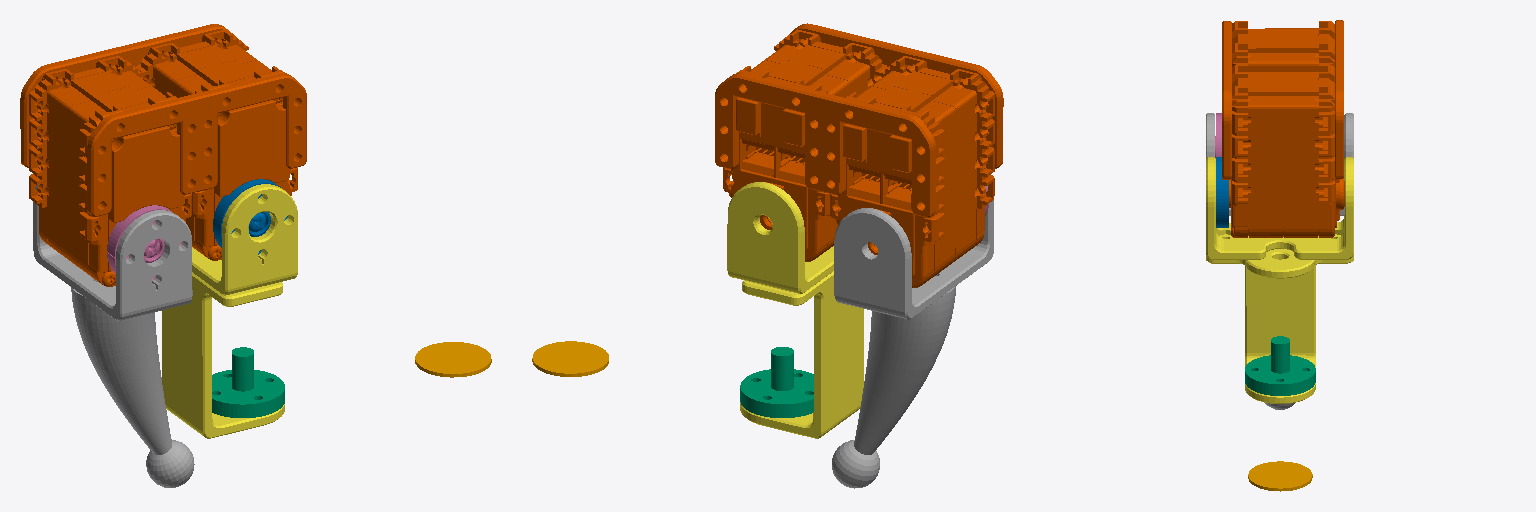
The robot description file, URDF, robot "hexapod":
<?xml version="1.0" encoding="utf-8"?>
<!-- =================================================================================== -->
<!-- |    This document was autogenerated by xacro from hexapod.urdf.xacro             | -->
<!-- |    EDITING THIS FILE BY HAND IS NOT RECOMMENDED                                 | -->
<!-- =================================================================================== -->
<robot name="hexapod" xmlns:xacro="http://www.ros.org/wiki/xacro">
  <!-- Dynamic contact stiffness. This determines if the link material is closer to marble (very rigid, bigger values) or more like rubber (soft material, lower values). It's essentially how much it deforms over a long period of time, exerting its pressure. -->
  <!-- ################################################################## -->
  <!-- ########################## GENERATORS ############################ -->
  <!-- ################################################################## -->
  <!-- ################################################################## -->
  <!-- ############################ COLORS ############################## -->
  <!-- ################################################################## -->
  <!-- These are for URDF coloring. Gazebo colors begin with capital letters -->
  <material name="blue">
    <color rgba="0.0 0.0 0.8 1.0"/>
  </material>
  <material name="green">
    <color rgba="0.0 0.8 0.0 1.0"/>
  </material>
  <material name="grey">
    <color rgba="0.7 0.7 0.7 1.0"/>
  </material>
  <material name="lightGrey">
    <color rgba="0.9 0.9 0.9 1.0"/>
  </material>
  <material name="darkGrey">
    <color rgba="0.2 0.2 0.2 1.0"/>
  </material>
  <material name="red">
    <color rgba="0.8 0.0 0.0 1.0"/>
  </material>
  <material name="white">
    <color rgba="1.0 1.0 1.0 1.0"/>
  </material>
  <material name="orange">
    <color rgba="1.0 0.69 0.0 1.0"/>
  </material>
  <!-- ########################## END HEX GENERATOR ############################ -->
  <!-- <xacro:property name="DOCK_MASS" value="0.01"/> -->
  <!-- ########################## END DOCK GENERATOR ############################ -->
  <!-- <xacro:property name="DOCK_MASS" value="0.01"/> -->
  <!-- ########################## END DOCK GENERATOR ############################ -->
  <!-- <xacro:property name="DOCK_MASS" value="0.01"/> -->
  <!-- <xacro:property name="FEM_WJ_X" value="-0.070807"/>
    <xacro:property name="FEM_WJ_Y" value="0.02"/>
    <xacro:property name="FEM_WJ_Z" value="0.064307"/> -->
  <!-- FROM ORIGIN -->
  <!-- <xacro:macro name="FEM_MOTOR_WHEEL_JOINT_ORIGIN">
        <origin xyz="${FEM_WJ_X} ${FEM_WJ_Y} ${FEM_WJ_Z}" rpy="${PI_2} ${PI} 0" />
    </xacro:macro> -->
  <!-- ########################## END DOCK GENERATOR ############################ -->
  <!-- <xacro:include filename="$(find hexapod)/urdf/hexapod.gazebo" /> -->
  <!-- Footprint link -->
  <link name="base_footprint">
    <visual>
      <geometry>
        <cylinder length="0.001" radius="0.01"/>
      </geometry>
    </visual>
  </link>
  <!-- Floating-base Joint -->
  <!-- <joint name="floating_base" type="fixed">
        <origin xyz="0 0 0" rpy="0 0 0"/>
        <parent link="base_footprint"/>
        <child link="heaxpod_body_link"/>
    </joint> -->
  <!-- <xacro:generate_body/> -->
  <!-- ########################## BODY LINK ############################ -->
  <!-- Body link -->
  <link name="body_link">
    <collision>
      <geometry>
        <mesh filename="package://hexapod/urdf/models/baseWithCox.stl" scale="0.001 0.001 0.001"/>
      </geometry>
    </collision>
    <visual>
      <geometry>
        <mesh filename="package://hexapod/urdf/models/baseWithCox.stl" scale="0.001 0.001 0.001"/>
      </geometry>
    </visual>
    <inertial>
      <origin rpy="0 0 0" xyz="0 0 0"/>
      <mass value="0.1"/>
      <inertia ixx="0.02" ixy="0.0" ixz="0.0" iyy="0.02" iyz="0.0" izz="0.02"/>
      <!-- <inertia ixx="1.66666666667e-08" ixy="0.0" ixz="0.0"
                      iyy="1.66666666667e-08" iyz="0.0"
                      izz="1.66666666667e-08"/> -->
    </inertial>
  </link>
  <joint name="body_joint" type="fixed">
    <parent link="base_footprint"/>
    <child link="body_link"/>
  </joint>
  <gazebo reference="body_link">
    <mu1 value="10.0"/>
    <mu2 value="10.0"/>
    <kp value="10000.0"/>
    <kd value="10000.0"/>
    <material>Gazebo/Red</material>
  </gazebo>
  <link name="cox_motor_wheel_link">
    <collision>
      <geometry>
        <mesh filename="package://hexapod/urdf/models/ax12_wheel_faceOrigin.stl" scale="0.001 0.001 0.001"/>
      </geometry>
    </collision>
    <visual>
      <geometry>
        <mesh filename="package://hexapod/urdf/models/ax12_wheel_faceOrigin.stl" scale="0.001 0.001 0.001"/>
      </geometry>
    </visual>
    <inertial>
      <origin rpy="0 0 0" xyz="0 0 0"/>
      <mass value="0.1"/>
      <inertia ixx="0.02" ixy="0.0" ixz="0.0" iyy="0.02" iyz="0.0" izz="0.02"/>
      <!-- <inertia ixx="1.66666666667e-08" ixy="0.0" ixz="0.0"
                      iyy="1.66666666667e-08" iyz="0.0"
                      izz="1.66666666667e-08"/> -->
    </inertial>
  </link>
  <joint name="cox_motor_wheel_joint" type="revolute">
    <origin rpy="1.57079632679 3.14 0" xyz="-0.0635 0.0 0.003"/>
    <parent link="body_link"/>
    <child link="cox_motor_wheel_link"/>
    <axis rpy="0 0 0" xyz="0 1 0"/>
    <!-- <limit upper="${PI}" lower="${PI}" effort="10000" velocity="1000"/> -->
    <limit effort="1000.0" lower="-1.0" upper="1.0" velocity="0.5"/>
    <!-- <joint_properties damping="1.0" friction="1.0"/> -->
  </joint>
  <gazebo reference="cox_motor_wheel_link">
    <mu1 value="10.0"/>
    <mu2 value="10.0"/>
    <kp value="10000.0"/>
    <kd value="10000.0"/>
    <material>Gazebo/Green</material>
  </gazebo>
  <!-- ########################## TROCOX ############################ -->
  <link name="trocox_link">
    <collision>
      <geometry>
        <mesh filename="package://hexapod/urdf/models/trochanter_contactOrigin.stl" scale="0.001 0.001 0.001"/>
      </geometry>
    </collision>
    <visual>
      <geometry>
        <mesh filename="package://hexapod/urdf/models/trochanter_contactOrigin.stl" scale="0.001 0.001 0.001"/>
      </geometry>
    </visual>
    <inertial>
      <origin rpy="0 0 0" xyz="0 0 0"/>
      <mass value="0.1"/>
      <inertia ixx="0.02" ixy="0.0" ixz="0.0" iyy="0.02" iyz="0.0" izz="0.02"/>
      <!-- <inertia ixx="1.66666666667e-08" ixy="0.0" ixz="0.0"
                      iyy="1.66666666667e-08" iyz="0.0"
                      izz="1.66666666667e-08"/> -->
    </inertial>
  </link>
  <joint name="trocox_joint" type="fixed">
    <!-- <origin xyz="${TROCOX_X} ${TROCOX_Y} ${TROCOX_Z}" rpy="0 0 0" /> -->
    <origin rpy="3.14 0 0" xyz="0 0 0"/>
    <parent link="cox_motor_wheel_link"/>
    <child link="trocox_link"/>
    <!-- <axis xyz="0 0 1" rpy="0 0 0"/> -->
    <!-- <limit upper="${PI}" lower="${PI}" effort="10000" velocity="1000"/> -->
    <!-- <limit upper="1.0" lower="-1.0" effort="1000.0" velocity="0.5"/> -->
    <!-- <joint_properties damping="1.0" friction="1.0"/> -->
  </joint>
  <gazebo reference="trocox_link">
    <mu1 value="10.0"/>
    <mu2 value="10.0"/>
    <kp value="10000.0"/>
    <kd value="10000.0"/>
    <material>Gazebo/Red</material>
  </gazebo>
  <!-- <transmission name="${side}_dock_transmission">
            <type>transmission_interface/SimpleTransmission</type>
            <joint name="dock_${side}_joint"> -->
  <!-- <hardwareInterface>hardware_interface/EffortJointInterface</hardwareInterface> -->
  <!-- <hardwareInterface>EffortJointInterface</hardwareInterface>
            </joint>
            <actuator name="${side}_dock_actuator">
                <mechanicalReduction>7</mechanicalReduction>
                <hardwareInterface>EffortJointInterface</hardwareInterface>
            </actuator>
        </transmission> -->
  <!-- ########################## FEM WHEEL ############################ -->
  <link name="fem_motor_wheel_link">
    <origin rpy="-1.57079632679 0 -1.57079632679" xyz="0.007307 0.061307 -0.02 "/>
    <collision>
      <geometry>
        <mesh filename="package://hexapod/urdf/models/ax12_wheel_faceOrigin.stl" scale="0.001 0.001 0.001"/>
      </geometry>
    </collision>
    <visual>
      <geometry>
        <mesh filename="package://hexapod/urdf/models/ax12_wheel_faceOrigin.stl" scale="0.001 0.001 0.001"/>
      </geometry>
    </visual>
    <inertial>
      <origin rpy="0 0 0" xyz="0 0 0"/>
      <mass value="0.1"/>
      <inertia ixx="0.02" ixy="0.0" ixz="0.0" iyy="0.02" iyz="0.0" izz="0.02"/>
      <!-- <inertia ixx="1.66666666667e-08" ixy="0.0" ixz="0.0"
                      iyy="1.66666666667e-08" iyz="0.0"
                      izz="1.66666666667e-08"/> -->
    </inertial>
  </link>
  <joint name="fem_motor_wheel_joint" type="revolute">
    <origin rpy="-1.57079632679 0 -1.57079632679" xyz="0.007307 0.061307 -0.02 "/>
    <parent link="trocox_link"/>
    <child link="fem_motor_wheel_link"/>
    <axis rpy="0 0 0" xyz="0 1 0"/>
    <!-- <limit upper="${PI}" lower="${PI}" effort="10000" velocity="1000"/> -->
    <limit effort="1000.0" lower="-1.0" upper="1.0" velocity="0.5"/>
    <!-- <joint_properties damping="1.0" friction="1.0"/> -->
  </joint>
  <gazebo reference="fem_motor_wheel_link">
    <mu1 value="10.0"/>
    <mu2 value="10.0"/>
    <kp value="10000.0"/>
    <kd value="10000.0"/>
    <material>Gazebo/Blue</material>
  </gazebo>
  <!-- ########################## FEMUR ############################ -->
  <link name="femur_link">
    <collision>
      <geometry>
        <mesh filename="package://hexapod/urdf/models/femur_pPls.stl" scale="0.001 0.001 0.001"/>
      </geometry>
    </collision>
    <visual>
      <geometry>
        <mesh filename="package://hexapod/urdf/models/femur_pPls.stl" scale="0.001 0.001 0.001"/>
      </geometry>
    </visual>
    <inertial>
      <origin rpy="0 0 0" xyz="0 0 0"/>
      <mass value="0.1"/>
      <inertia ixx="0.02" ixy="0.0" ixz="0.0" iyy="0.02" iyz="0.0" izz="0.02"/>
      <!-- <inertia ixx="1.66666666667e-08" ixy="0.0" ixz="0.0"
                      iyy="1.66666666667e-08" iyz="0.0"
                      izz="1.66666666667e-08"/> -->
    </inertial>
  </link>
  <joint name="femur_joint" type="fixed">
    <origin rpy="0 -1.57079632679 0" xyz="0 -0.004 0"/>
    <parent link="fem_motor_wheel_link"/>
    <child link="femur_link"/>
  </joint>
  <gazebo reference="fem_motor_wheel_link">
    <mu1 value="10.0"/>
    <mu2 value="10.0"/>
    <kp value="10000.0"/>
    <kd value="10000.0"/>
    <material>Gazebo/Blue</material>
  </gazebo>
  <!-- <transmission name="${side}_dock_transmission">
            <type>transmission_interface/SimpleTransmission</type>
            <joint name="dock_${side}_joint"> -->
  <!-- <hardwareInterface>hardware_interface/EffortJointInterface</hardwareInterface> -->
  <!-- <hardwareInterface>EffortJointInterface</hardwareInterface>
            </joint>
            <actuator name="${side}_dock_actuator">
                <mechanicalReduction>7</mechanicalReduction>
                <hardwareInterface>EffortJointInterface</hardwareInterface>
            </actuator>
        </transmission> -->
  <!-- ########################## FEM WHEEL ############################ -->
  <link name="tib_motor_wheel_link">
    <origin rpy="0 0 0" xyz="0.032 0.004 0.0 "/>
    <collision>
      <geometry>
        <mesh filename="package://hexapod/urdf/models/ax12_wheel_faceOrigin.stl" scale="0.001 0.001 0.001"/>
      </geometry>
    </collision>
    <visual>
      <geometry>
        <mesh filename="package://hexapod/urdf/models/ax12_wheel_faceOrigin.stl" scale="0.001 0.001 0.001"/>
      </geometry>
    </visual>
    <inertial>
      <origin rpy="0 0 0" xyz="0 0 0"/>
      <mass value="0.1"/>
      <inertia ixx="0.02" ixy="0.0" ixz="0.0" iyy="0.02" iyz="0.0" izz="0.02"/>
      <!-- <inertia ixx="1.66666666667e-08" ixy="0.0" ixz="0.0"
                      iyy="1.66666666667e-08" iyz="0.0"
                      izz="1.66666666667e-08"/> -->
    </inertial>
  </link>
  <joint name="tib_motor_wheel_joint" type="revolute">
    <origin rpy="0 0 0" xyz="0.032 0.004 0.0 "/>
    <parent link="femur_link"/>
    <child link="tib_motor_wheel_link"/>
    <axis rpy="0 0 0" xyz="0 1 0"/>
    <!-- <limit upper="${PI}" lower="${PI}" effort="10000" velocity="1000"/> -->
    <limit effort="1000.0" lower="-1.0" upper="1.0" velocity="0.5"/>
    <!-- <joint_properties damping="1.0" friction="1.0"/> -->
  </joint>
  <gazebo reference="tib_motor_wheel_link">
    <mu1 value="10.0"/>
    <mu2 value="10.0"/>
    <kp value="10000.0"/>
    <kd value="10000.0"/>
    <material>Gazebo/Blue</material>
  </gazebo>
  <!-- ########################## TIBIA ############################ -->
  <link name="tibia_link">
    <collision>
      <geometry>
        <mesh filename="package://hexapod/urdf/models/tib3piece_centered.stl" scale="0.001 0.001 0.001"/>
      </geometry>
    </collision>
    <visual>
      <geometry>
        <mesh filename="package://hexapod/urdf/models/tib3piece_centered.stl" scale="0.001 0.001 0.001"/>
      </geometry>
    </visual>
    <inertial>
      <origin rpy="0 0 0" xyz="0 0 0"/>
      <mass value="0.1"/>
      <inertia ixx="0.02" ixy="0.0" ixz="0.0" iyy="0.02" iyz="0.0" izz="0.02"/>
      <!-- <inertia ixx="1.66666666667e-08" ixy="0.0" ixz="0.0"
                      iyy="1.66666666667e-08" iyz="0.0"
                      izz="1.66666666667e-08"/> -->
    </inertial>
  </link>
  <joint name="tibia_joint" type="fixed">
    <origin rpy="0 0 -3.14" xyz="0.0 -0.019924 -0.01826"/>
    <parent link="tib_motor_wheel_link"/>
    <child link="tibia_link"/>
  </joint>
  <gazebo reference="tibia_link">
    <mu1 value="10.0"/>
    <mu2 value="10.0"/>
    <kp value="10000.0"/>
    <kd value="10000.0"/>
    <material>Gazebo/Blue</material>
  </gazebo>
  <!-- <transmission name="${side}_dock_transmission">
            <type>transmission_interface/SimpleTransmission</type>
            <joint name="dock_${side}_joint"> -->
  <!-- <hardwareInterface>hardware_interface/EffortJointInterface</hardwareInterface> -->
  <!-- <hardwareInterface>EffortJointInterface</hardwareInterface>
            </joint>
            <actuator name="${side}_dock_actuator">
                <mechanicalReduction>7</mechanicalReduction>
                <hardwareInterface>EffortJointInterface</hardwareInterface>
            </actuator>
        </transmission> -->
</robot>

--- Render facts (derived) ---
Views: 3 orthographic renders of the robot side by side, from view 1: azimuth 30°, elevation 25°; view 2: azimuth 150°, elevation 25°; view 3: azimuth 270°, elevation 25°.
Model hexapod with 8 links and 7 joints (3 revolute, 4 fixed), rooted at base_footprint, posed every joint at zero.
Links seen in each view (by area): view 1: femur_link, tibia_link, trocox_link, cox_motor_wheel_link, base_footprint, fem_motor_wheel_link, tib_motor_wheel_link; view 2: femur_link, tibia_link, trocox_link, cox_motor_wheel_link, base_footprint; view 3: femur_link, trocox_link, cox_motor_wheel_link, base_footprint, tibia_link, fem_motor_wheel_link.
Boxes of the visible links, <box> form: femur_link: <box>20,24,306,286</box>; tibia_link: <box>33,185,194,487</box>; trocox_link: <box>162,184,297,438</box>; cox_motor_wheel_link: <box>212,347,284,417</box>; base_footprint: <box>415,342,491,377</box>; fem_motor_wheel_link: <box>213,179,287,254</box>; tib_motor_wheel_link: <box>107,205,182,280</box>; femur_link: <box>715,23,1003,287</box>; tibia_link: <box>832,186,993,488</box>; trocox_link: <box>727,182,863,438</box>; cox_motor_wheel_link: <box>740,347,813,417</box>; base_footprint: <box>532,341,608,376</box>; femur_link: <box>1222,20,1344,237</box>; trocox_link: <box>1206,157,1353,403</box>; cox_motor_wheel_link: <box>1245,336,1315,395</box>; base_footprint: <box>1248,461,1312,491</box>; tibia_link: <box>1206,113,1353,409</box>; fem_motor_wheel_link: <box>1216,157,1228,227</box>.
Size in the robot's own frame: 0.1296 by 0.0461 by 0.1199 metres.
Meshes: 5 distinct files referenced, 6 mesh visuals loaded (4 binary STL); not drawn: 1 (reference not matched to a file when rendering).
